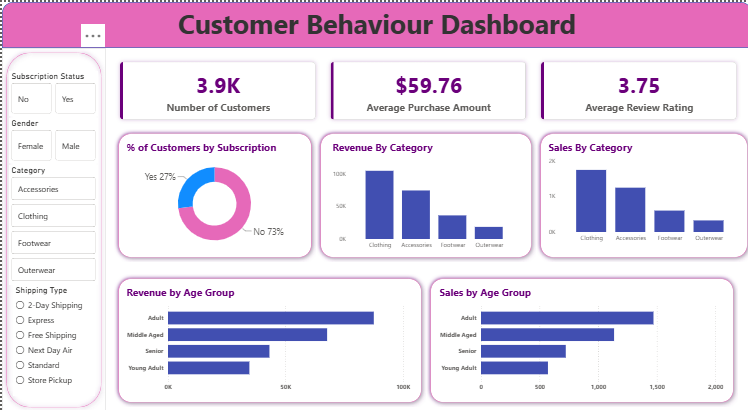

What the dashboard file says about the page in this screenshot:
{"tool":"powerbi","page":{"name":"Page 1","canvas":[1500,820],"ordinal":0},"visuals":[{"type":"cardVisual","fields":{"Data":["public customer.Number of Customers","public customer.Average Purchase Amount","public customer.Average Review Rating"]},"box":[208.3,91.7,1291.7,171.7],"z":0},{"type":"shape","box":[0,0,1500,92],"z":1000},{"type":"textbox","box":[0,0,1500,92],"z":2000},{"type":"shape","box":[224,254,404,266],"z":3000},{"type":"donutChart","title":"% of Customers by Subscription","fields":{"Category":["public customer.subscription_status"],"Y":["CountNonNull(public customer.customer_id)"]},"box":[244,276,362,228],"z":4000},{"type":"shape","box":[628,254,440,266],"z":5000},{"type":"shape","box":[1068,254,432,266],"z":6000},{"type":"clusteredColumnChart","title":"Revenue By Category","fields":{"Y":["Sum(public customer.purchase_amount)"],"Category":["public customer.category"]},"box":[656,276,382,228],"z":7000},{"type":"clusteredColumnChart","title":"Sales By Category","fields":{"Category":["public customer.category"],"Y":["Count(public customer.customer_id)"]},"box":[1088,276,394,214],"z":8000},{"type":"shape","box":[0,92,208,728],"z":9000},{"type":"advancedSlicerVisual","fields":{"Values":["public customer.subscription_status"]},"box":[14,138,178,90],"z":10000},{"type":"advancedSlicerVisual","title":"Gender","fields":{"Values":["public customer.gender"]},"box":[14,232,178,90],"z":11000},{"type":"advancedSlicerVisual","title":"Category","fields":{"Values":["public customer.category"]},"box":[14,326,178,240],"z":12000},{"type":"listSlicer","title":"Shipping Type","fields":{"Values":["public customer.shipping_type"]},"box":[22,566,164,222],"z":13000},{"type":"shape","box":[224,544,624,266],"z":14000},{"type":"shape","box":[848,544,624,266],"z":15000},{"type":"clusteredBarChart","title":"Revenue by Age Group","fields":{"Category":["public customer.age_group"],"Y":["Sum(public customer.purchase_amount)"]},"box":[244,566,578,222],"z":16000},{"type":"clusteredBarChart","title":"Sales by Age Group","fields":{"Category":["public customer.age_group"],"Y":["CountNonNull(public customer.customer_id)"]},"box":[870,566,578,222],"z":17000}]}

Visuals, with their boxes in screenshot pixels (x1, y1, x2, y2), scaled from the page's 1500x820 canvas onto the 748x410 screenshot:
cardVisual - public customer.Number of Customers x public customer.Average Purchase Amount: box(104, 46, 747, 132)
shape: box(0, 0, 747, 46)
textbox: box(0, 0, 747, 46)
shape: box(112, 127, 313, 260)
"% of Customers by Subscription" donutChart: box(122, 138, 302, 252)
shape: box(313, 127, 533, 260)
shape: box(533, 127, 747, 260)
"Revenue By Category" clusteredColumnChart: box(327, 138, 518, 252)
"Sales By Category" clusteredColumnChart: box(543, 138, 739, 245)
shape: box(0, 46, 104, 409)
advancedSlicerVisual - public customer.subscription_status: box(7, 69, 96, 114)
"Gender" advancedSlicerVisual: box(7, 116, 96, 161)
"Category" advancedSlicerVisual: box(7, 163, 96, 283)
"Shipping Type" listSlicer: box(11, 283, 93, 394)
shape: box(112, 272, 423, 405)
shape: box(423, 272, 734, 405)
"Revenue by Age Group" clusteredBarChart: box(122, 283, 410, 394)
"Sales by Age Group" clusteredBarChart: box(434, 283, 722, 394)
